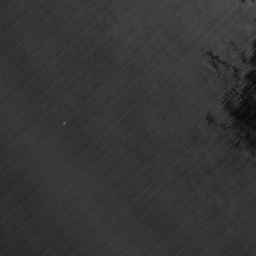Target: (60, 119, 66, 127)
